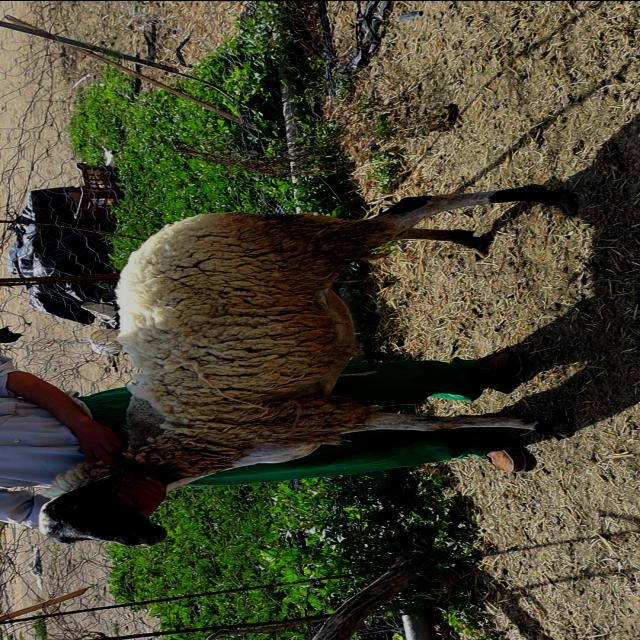Score_3: (39, 184, 574, 545)
